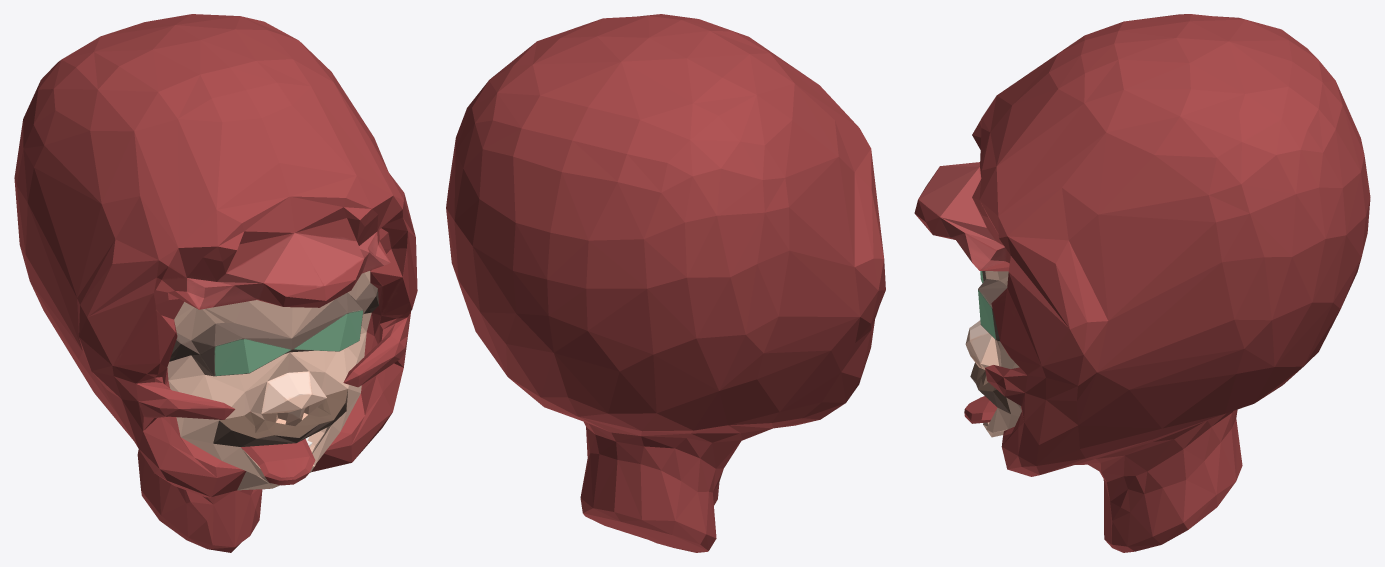
3 views of the same model, side by side, from view 1: azimuth 30°, elevation 25°; view 2: azimuth 150°, elevation 25°; view 3: azimuth 270°, elevation 25° (orthographic). The views are drawn at different scales.
Parts seen in each view (by area): view 1: headpart2:Head23:polySurface1, headpart2:Head23:pCube3; view 2: headpart2:Head23:polySurface1; view 3: headpart2:Head23:polySurface1, headpart2:Head23:pCube3.
Boxes of the visible parts, x1,y1,x2,y2 form: headpart2:Head23:polySurface1: (14, 14, 417, 552); headpart2:Head23:pCube3: (241, 438, 315, 485); headpart2:Head23:polySurface1: (446, 14, 885, 552); headpart2:Head23:polySurface1: (914, 14, 1370, 552); headpart2:Head23:pCube3: (964, 396, 997, 423).
Size of the model in its own units: 1.4 by 1.98 by 1.6.
